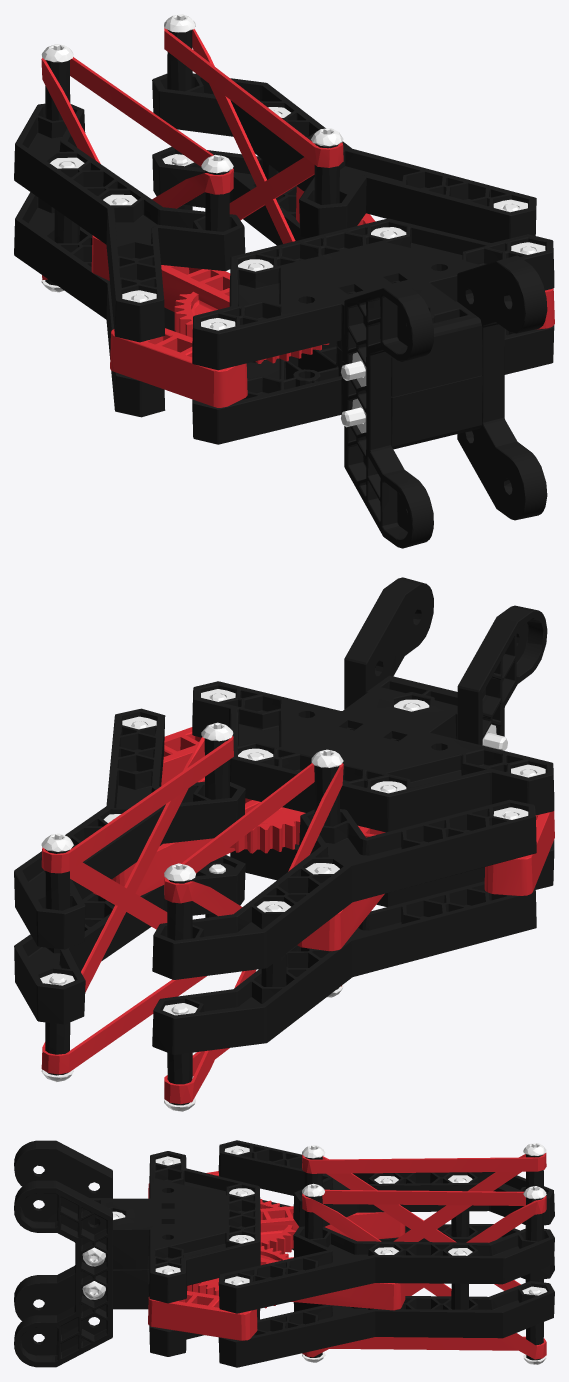
The model's file is V5_Claw_Kit__276-6010_.glb.
The picture shows the model from 3 angles, top to bottom: view 1: azimuth 30°, elevation 25°; view 2: azimuth 150°, elevation 25°; view 3: azimuth 270°, elevation 25°; orthographic projection. The views are drawn at different scales.
Parts seen in each view (by area): view 1: V5 Claw Kit (276-6010); view 2: V5 Claw Kit (276-6010); view 3: V5 Claw Kit (276-6010).
Part boxes in pixels (left/top/right/bottom): V5 Claw Kit (276-6010): left=14, top=14, right=554, bottom=548; V5 Claw Kit (276-6010): left=14, top=577, right=554, bottom=1111; V5 Claw Kit (276-6010): left=14, top=1140, right=554, bottom=1367.
Size of the model in its own units: 4.76 by 2.69 by 7.33.
